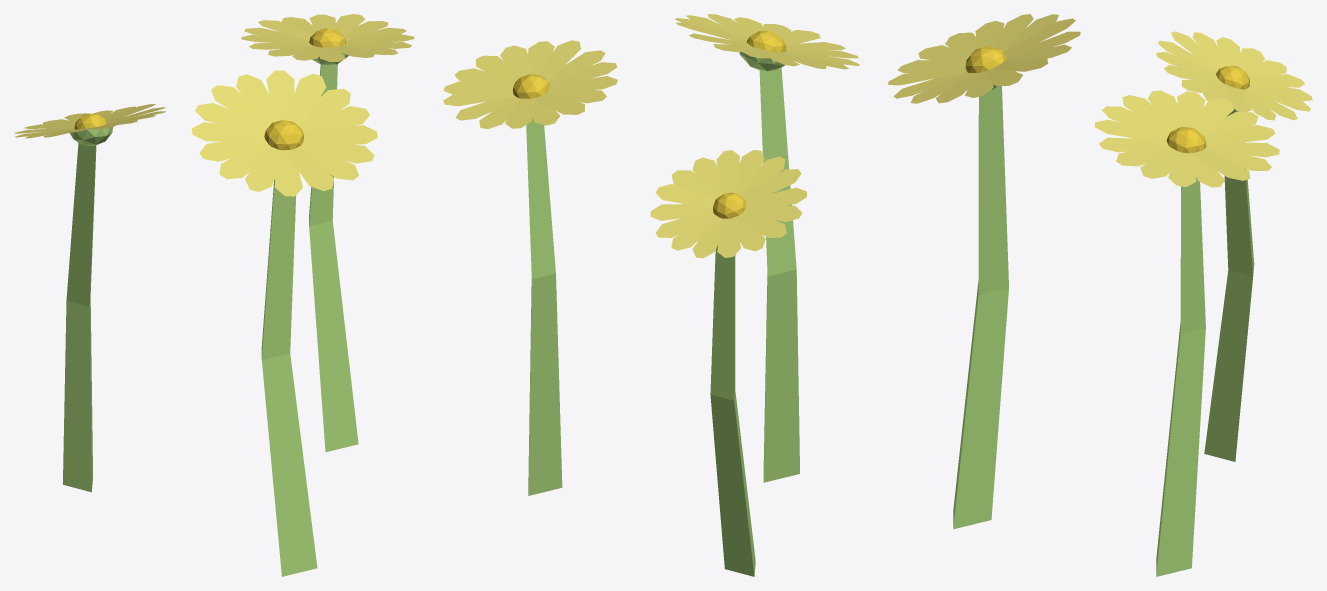
The model's file is yellowFlower.glb.
3 renders of one model, left to right at view 1: azimuth 30°, elevation 25°; view 2: azimuth 150°, elevation 25°; view 3: azimuth 270°, elevation 25°, orthographic. The views are drawn at different scales.
Parts seen in each view (by area): view 1: Cylinder.002; view 2: Cylinder.002; view 3: Cylinder.002.
Boxes of the visible parts, <box> form: Cylinder.002: <box>14,14,414,576</box>; Cylinder.002: <box>443,14,859,576</box>; Cylinder.002: <box>888,14,1312,576</box>.
Size of the model in its own units: 0.1576 by 0.1911 by 0.1505.
